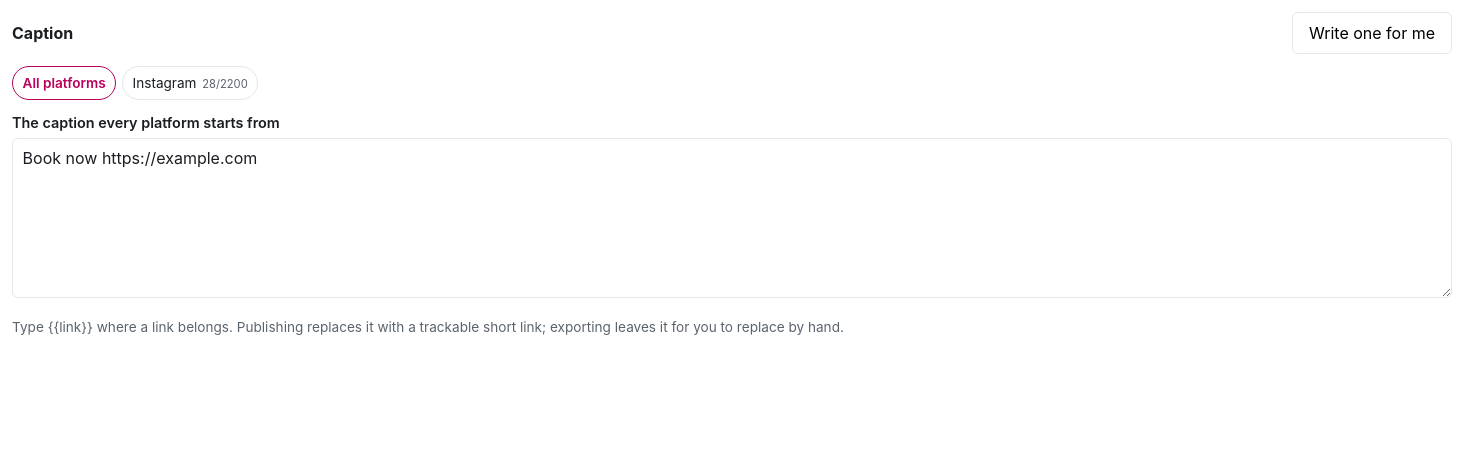
CaptionPanel › warns that an Instagram link will not be clickable
Click the tab "Instagram 28/2200" at (190, 83), box [122, 66, 258, 100]
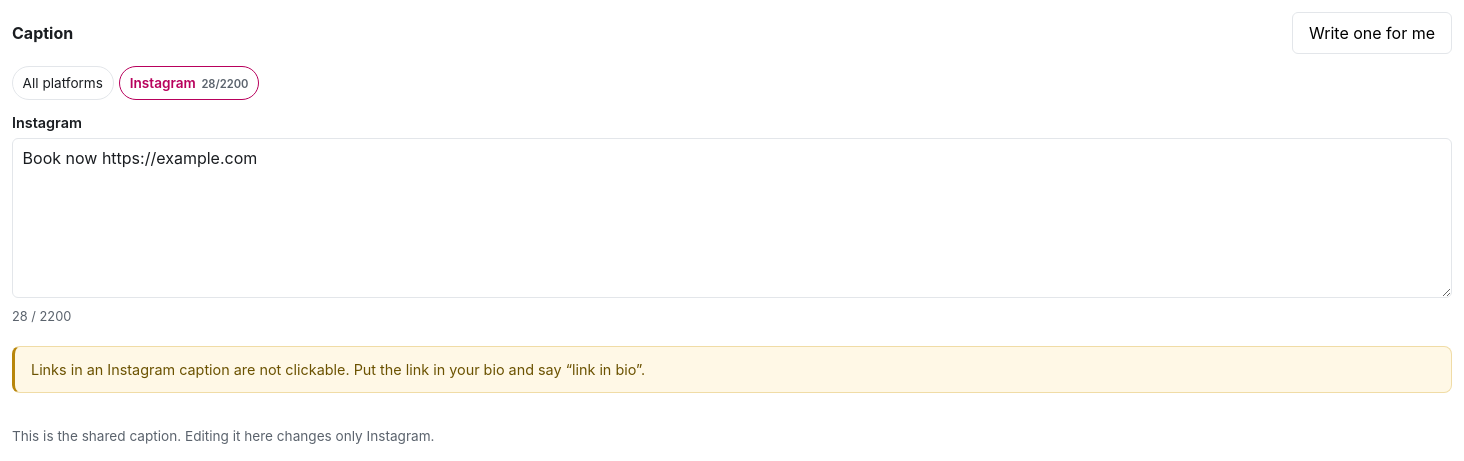
Now the message shows "not clickable", box [175, 360, 354, 378]
Now the message shows "link in bio", box [354, 360, 645, 378]
